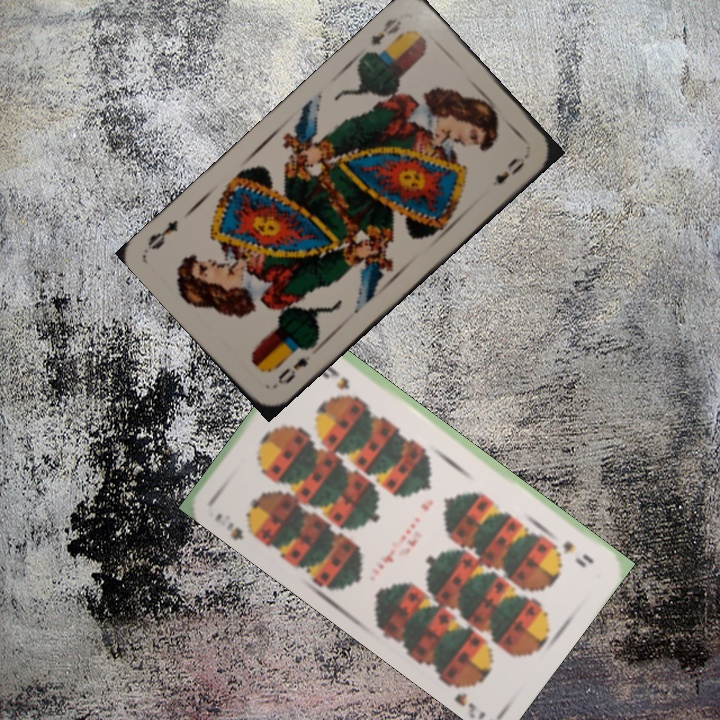EO: (273, 343, 315, 388), (367, 14, 405, 49)
S9: (210, 509, 262, 543), (558, 536, 597, 568)
